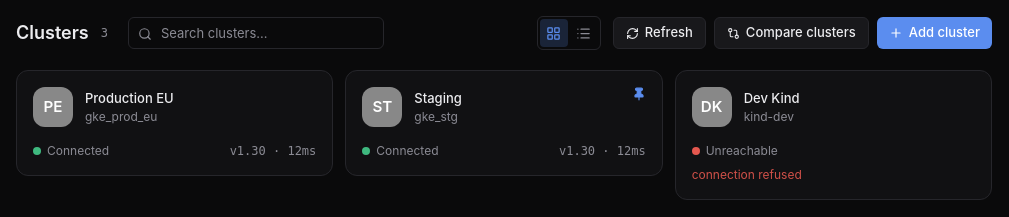
Test: Home search › finds clusters by status, so problems are one search away
Type "unreachable" into the field labelled "Search clusters" at (256, 33), box [128,17,384,49]
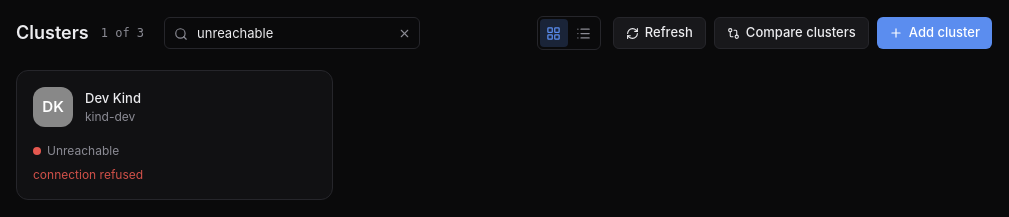
Expected: the text "Dev Kind" is shown, [85,89,141,109]
Expected: the button "Staging" is gone
